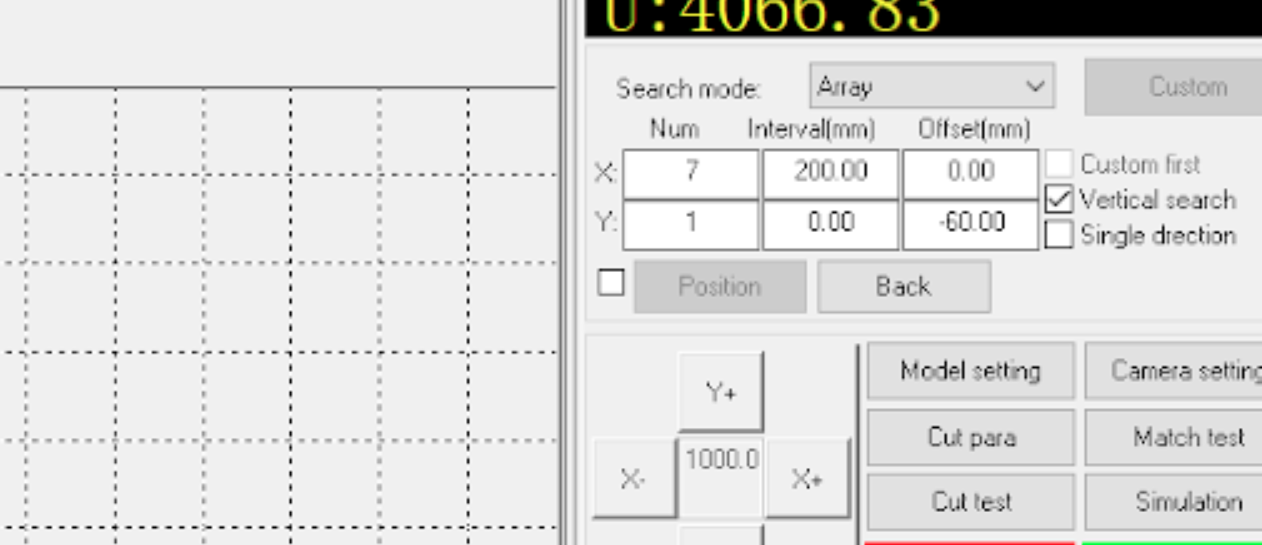timer: (907, 112, 1040, 247)
